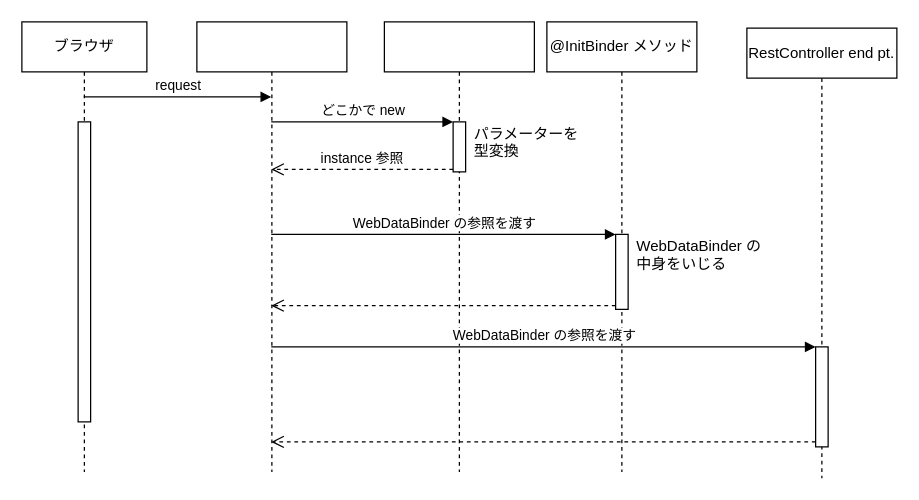
Some shapes in this 919 by 500 pixel diagram are drawn without their labels. Here are the shapes that lost their labels. From the top down, the box of each, then its label:
(196, 21, 347, 472): SBエントリポイント main とか
(383, 21, 534, 472): WebDataBinder
